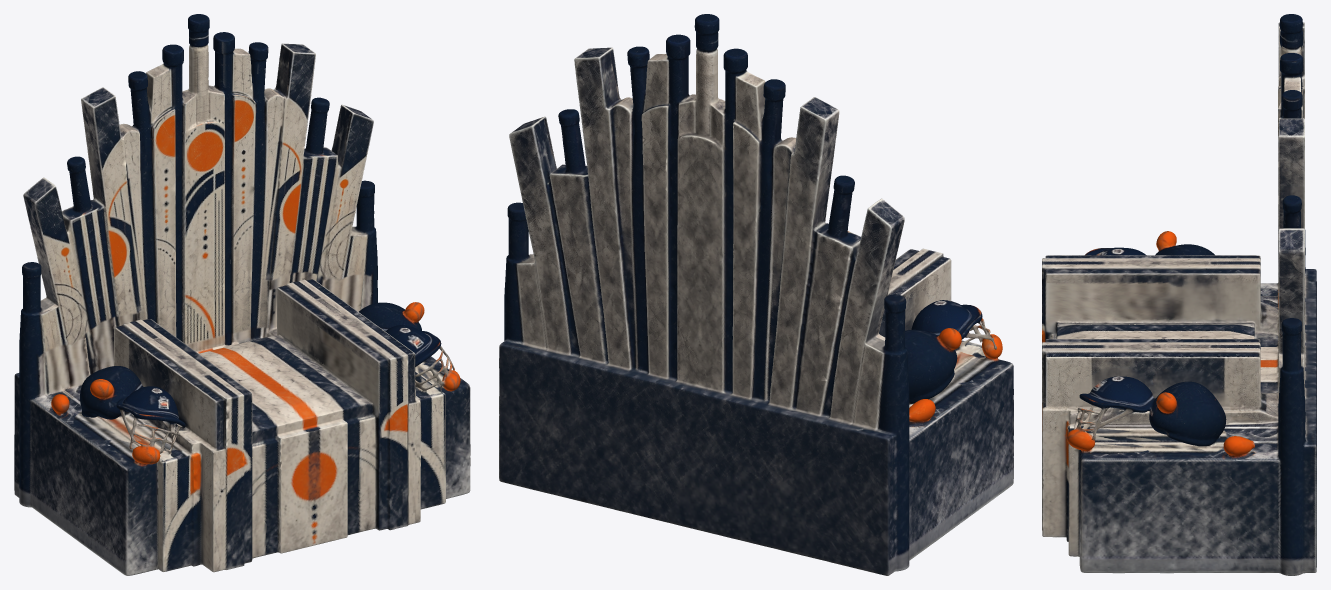
The model's file is Throne.glb.
3 renders of one model, left to right at view 1: azimuth 30°, elevation 25°; view 2: azimuth 150°, elevation 25°; view 3: azimuth 270°, elevation 25°, orthographic. The views are drawn at different scales.
Parts seen in each view (by area): view 1: Mesh_0; view 2: Mesh_0; view 3: Mesh_0.
Part boxes in pixels (x1,y1,x2,y2): Mesh_0: (14, 14, 470, 575); Mesh_0: (499, 14, 1013, 575); Mesh_0: (1042, 14, 1316, 575).
Bounding box in the file's own units: 1.59 × 1.9 × 1.01.
Materials: 1 (1 with a texture image).
